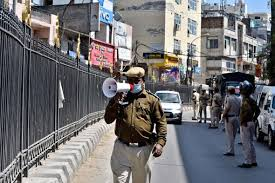mask: (123, 67, 144, 94), (239, 78, 255, 96), (225, 85, 236, 97), (199, 88, 207, 94), (211, 88, 218, 94)
